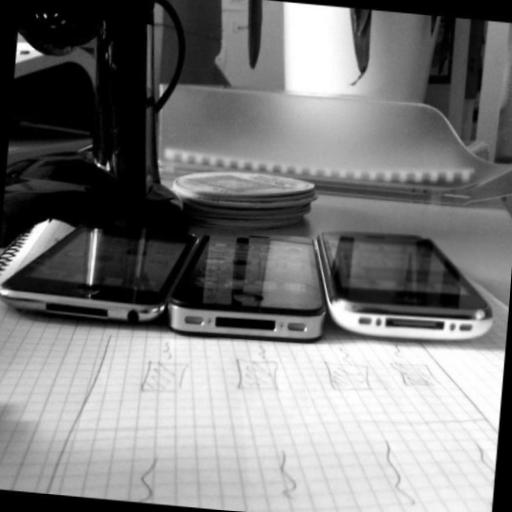phone: (0, 226, 196, 323), (317, 231, 492, 339), (169, 231, 325, 341)
